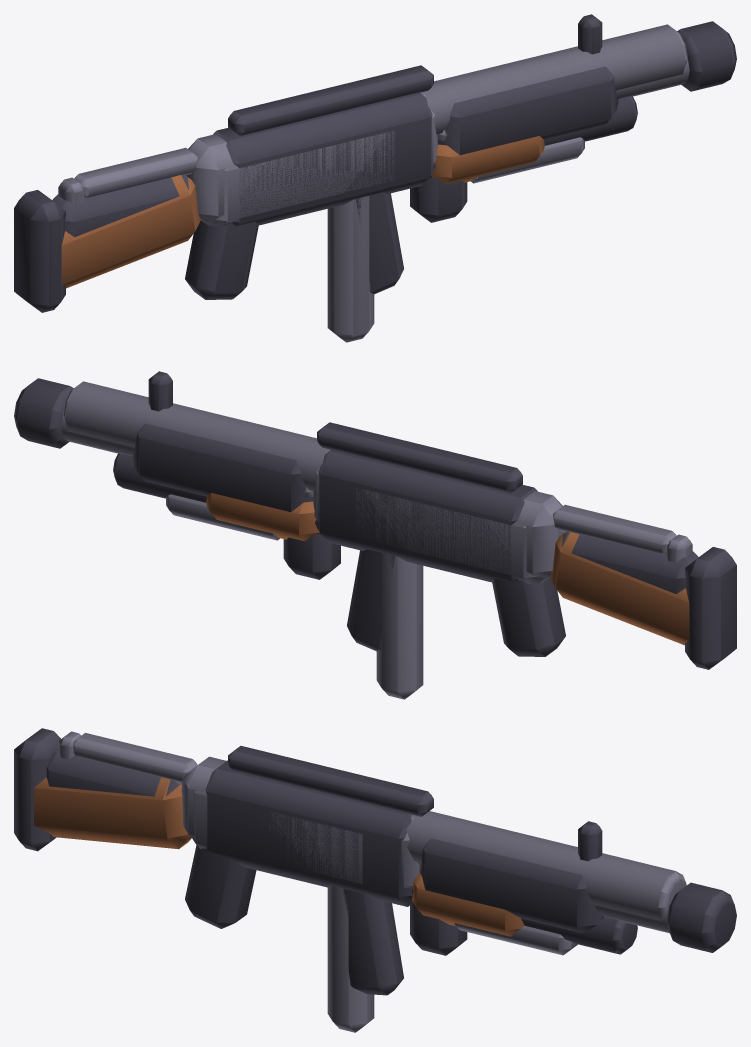
Rendered from weapons-CgJL6ehL.glb.
The picture shows the model from 3 angles, top to bottom: view 1: azimuth 30°, elevation 25°; view 2: azimuth 150°, elevation 25°; view 3: azimuth 330°, elevation 25°; orthographic projection.
Parts seen in each view (by area): view 1: carbine, shotgun, smg; view 2: carbine, smg, shotgun; view 3: carbine, smg, shotgun.
Part boxes in pixels (<box>): carbine: <box>14,14,736,312</box>; shotgun: <box>61,24,687,288</box>; smg: <box>58,92,467,342</box>; carbine: <box>14,371,736,669</box>; smg: <box>283,449,692,699</box>; shotgun: <box>63,381,689,645</box>; carbine: <box>14,728,736,995</box>; smg: <box>58,731,467,1032</box>; shotgun: <box>34,777,686,954</box>.
Size of the model in its own units: 1.76 by 0.63 by 0.15.
